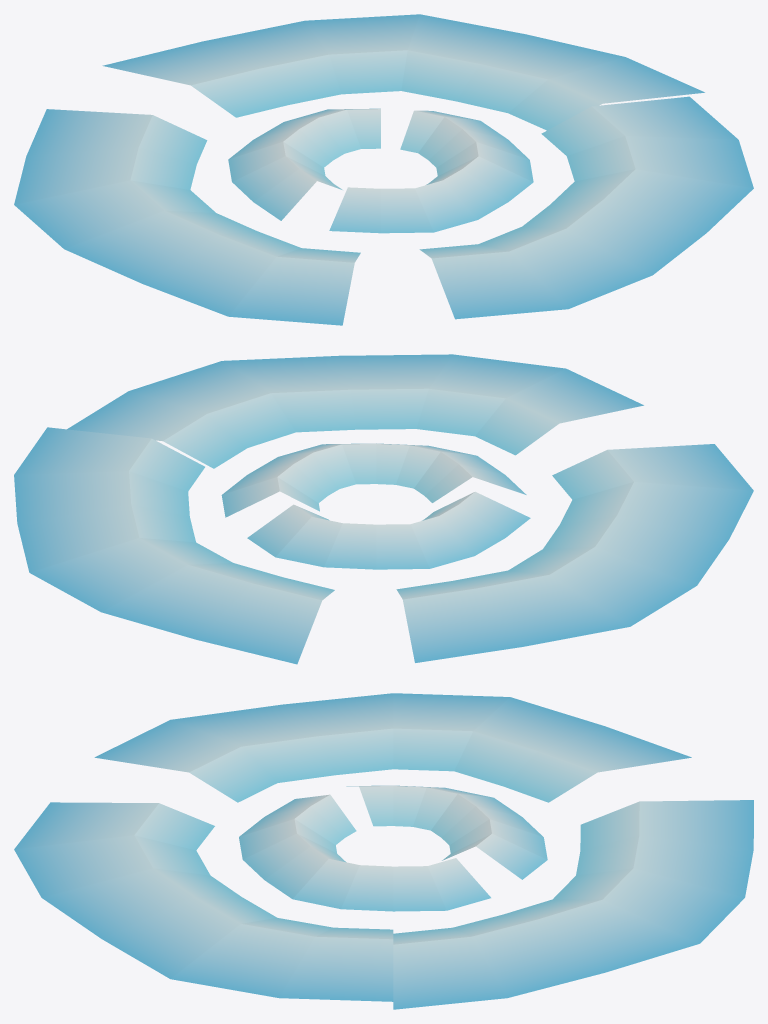
Rendered from SprayBuoySplashRing.glb.
3 renders of one model, top to bottom at view 1: azimuth 30°, elevation 25°; view 2: azimuth 150°, elevation 25°; view 3: azimuth 270°, elevation 25°, orthographic.
Parts seen in each view (by area): view 1: SprayBuoySplashRing; view 2: SprayBuoySplashRing; view 3: SprayBuoySplashRing.
Part boxes in pixels (bbox=[...]): SprayBuoySplashRing: bbox=[14, 14, 753, 325]; SprayBuoySplashRing: bbox=[14, 354, 753, 664]; SprayBuoySplashRing: bbox=[14, 693, 753, 1009].
Size of the model in its own units: 4.15 by 0.148 by 4.1.
